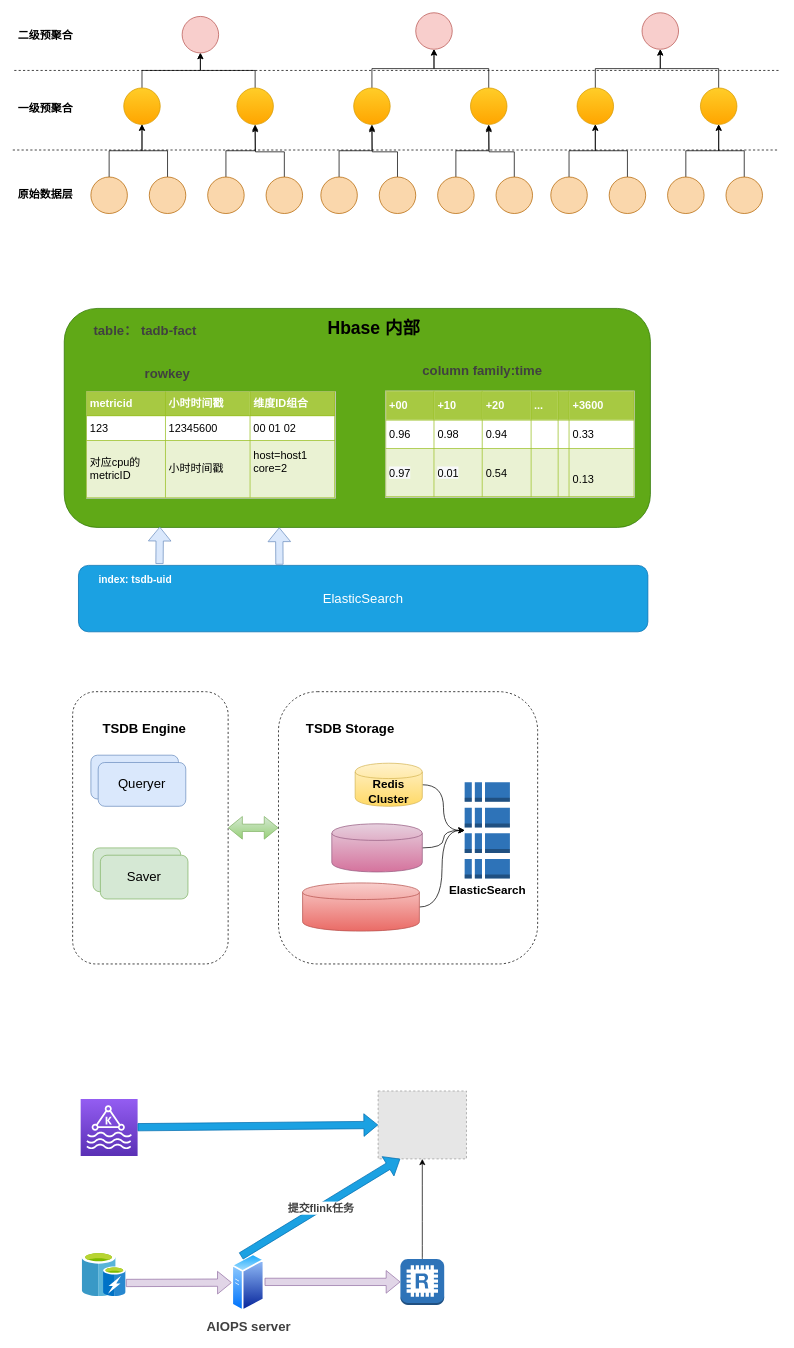
This 794x1348 diagram has some shape labels left out. Grey dashed boxes stand in for pictures. Here are the shapes that lost their labels. From the top down, the centre of each, then its label:
At point (376, 847): "Hbase Cluster".
At point (360, 906): "Hadoop Cluster".
At point (109, 1127): "Kafka集群".
At point (104, 1274): "Influx DB".
At point (422, 1281): "Redis集群".
